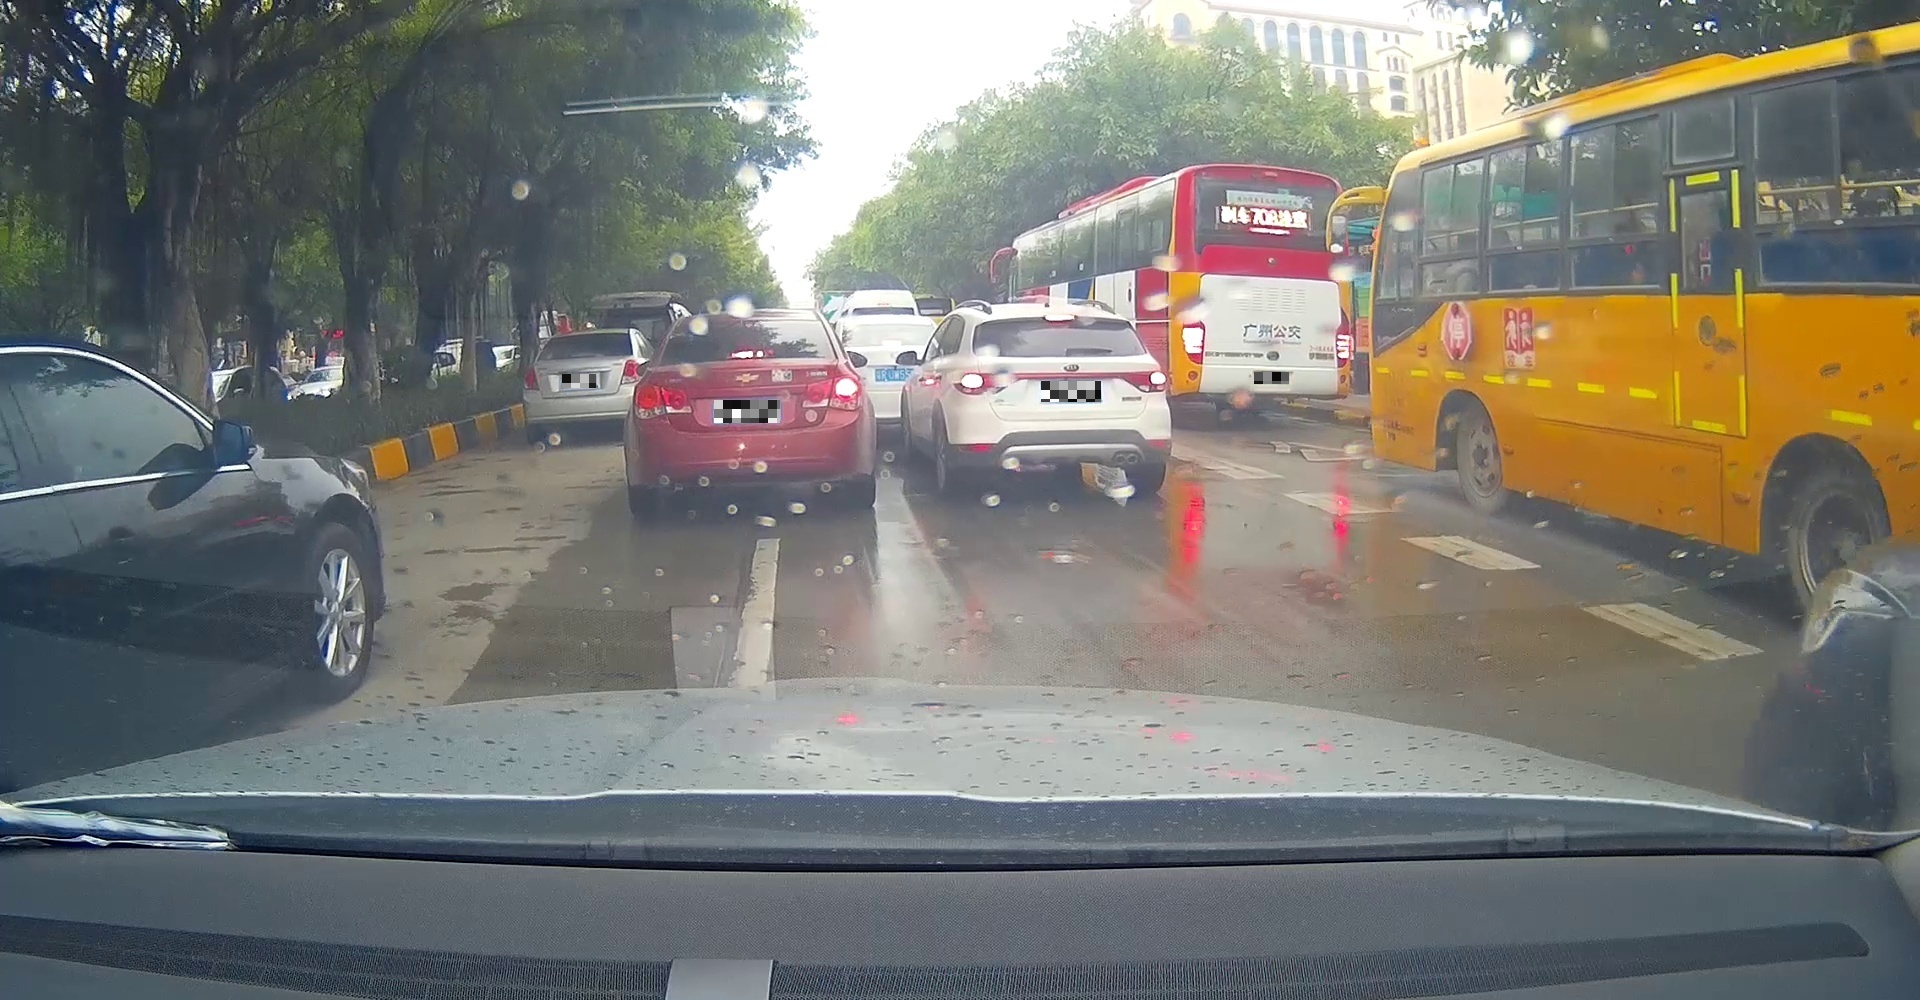L_light: (634, 381, 691, 419), (952, 371, 1013, 393), (1182, 307, 1206, 364)
R_light: (803, 374, 863, 409), (1120, 371, 1167, 392), (1335, 307, 1349, 367)
T_light: (730, 348, 770, 357), (1250, 227, 1291, 235), (1044, 315, 1076, 321)
day-brake: (623, 310, 876, 519), (1171, 165, 1352, 421), (952, 311, 1170, 495)
plate_1: (563, 374, 596, 388)
plate_2: (714, 400, 780, 423)
plate_3: (1041, 381, 1101, 402)
plate_4: (1255, 372, 1289, 385)
